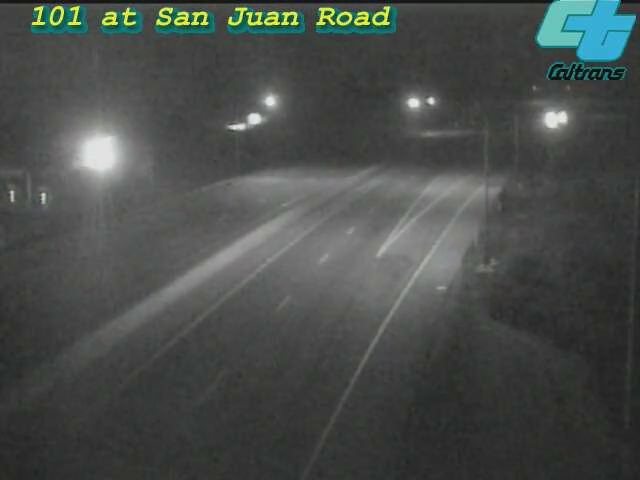vehicle: (527, 95, 577, 145), (542, 93, 592, 143)
